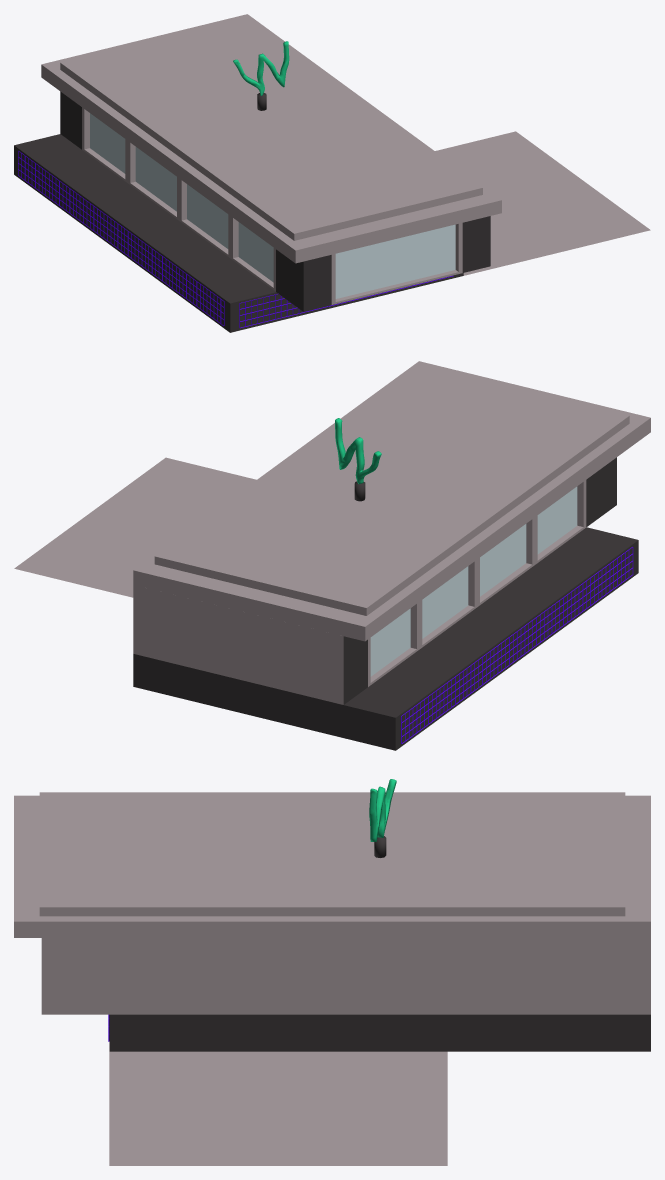
The model's file is roofStore (1).fbx.
3 renders of one model, top to bottom at view 1: azimuth 30°, elevation 25°; view 2: azimuth 150°, elevation 25°; view 3: azimuth 270°, elevation 25°, orthographic. The views are drawn at different scales.
Visible parts, largest first — view 1: roofStore; view 2: roofStore; view 3: roofStore.
Boxes of the visible parts, bbox=[...] form: roofStore: bbox=[14, 14, 650, 332]; roofStore: bbox=[14, 361, 650, 750]; roofStore: bbox=[14, 779, 650, 1165].
Size of the model in its own units: 450 by 179 by 471.
